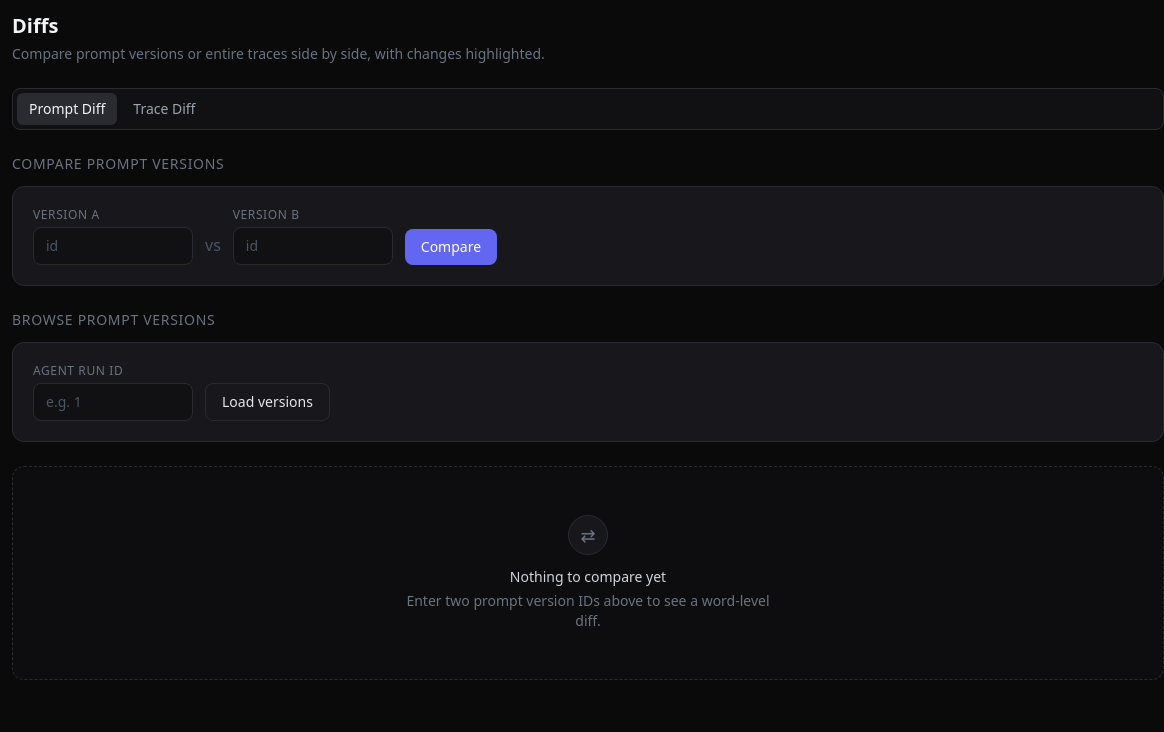
Test: Diffs page › switches tabs via the toggle
Click the button "Trace Diff".
click(164, 109)  # box top-left (121, 93), bottom-right (208, 125)
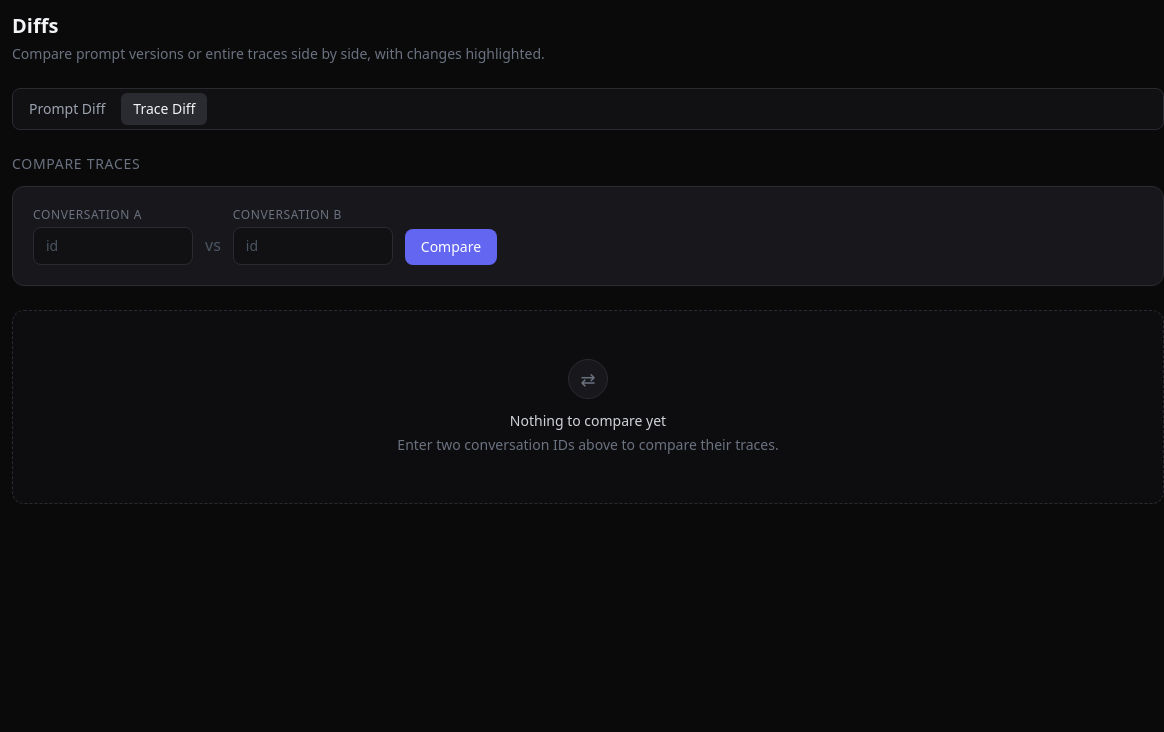
Expected: the heading "Browse prompt versions" is gone
